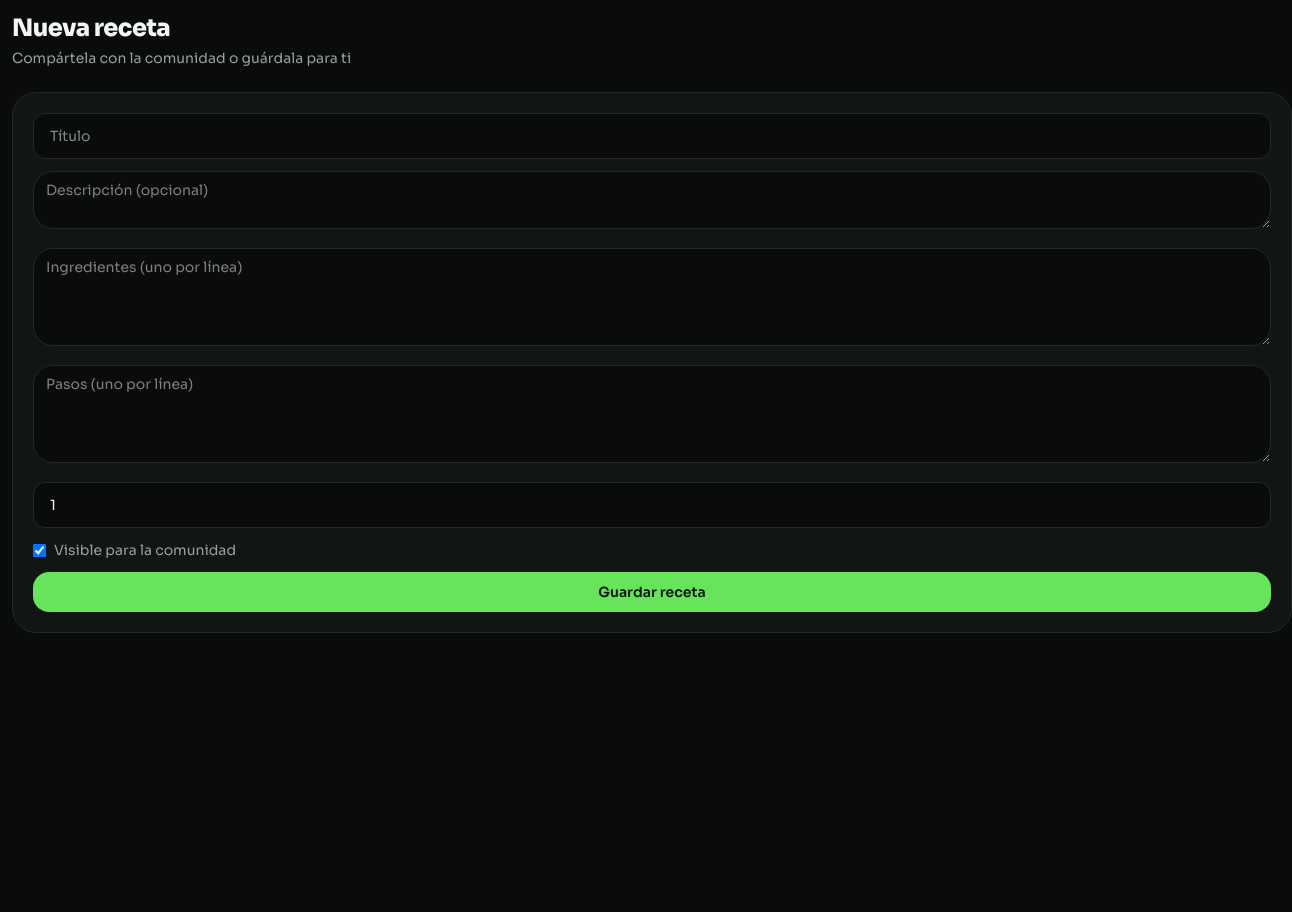
nueva receta › R2: refuses to submit without ingredients, mirroring the server rule
Type "Vacía" into the field with placeholder "Título".
click(652, 136); type("Vacía")  # box left=33, top=113, right=1271, bottom=159
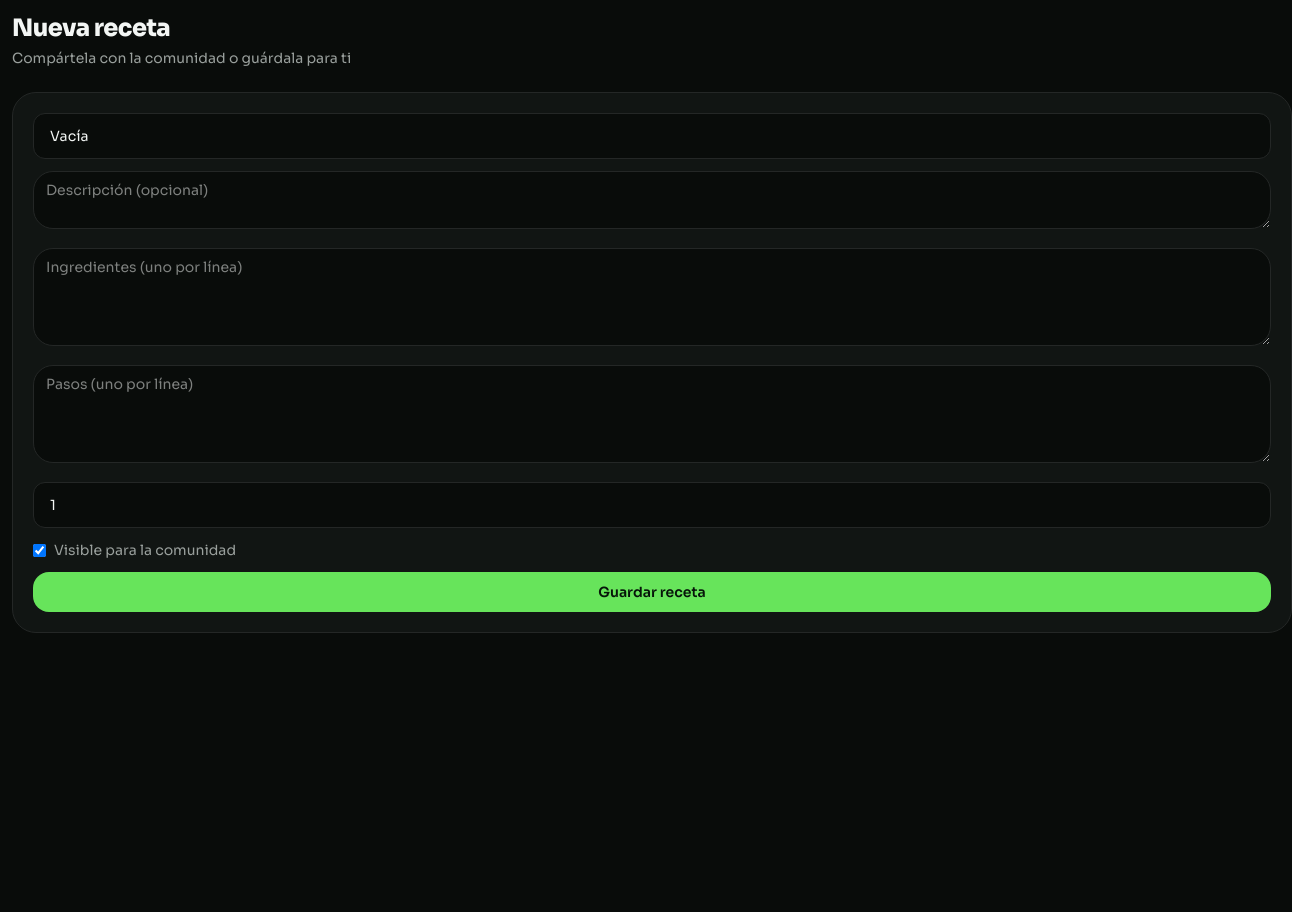
Click the button "Guardar receta".
click(652, 592)  # box left=33, top=572, right=1271, bottom=612
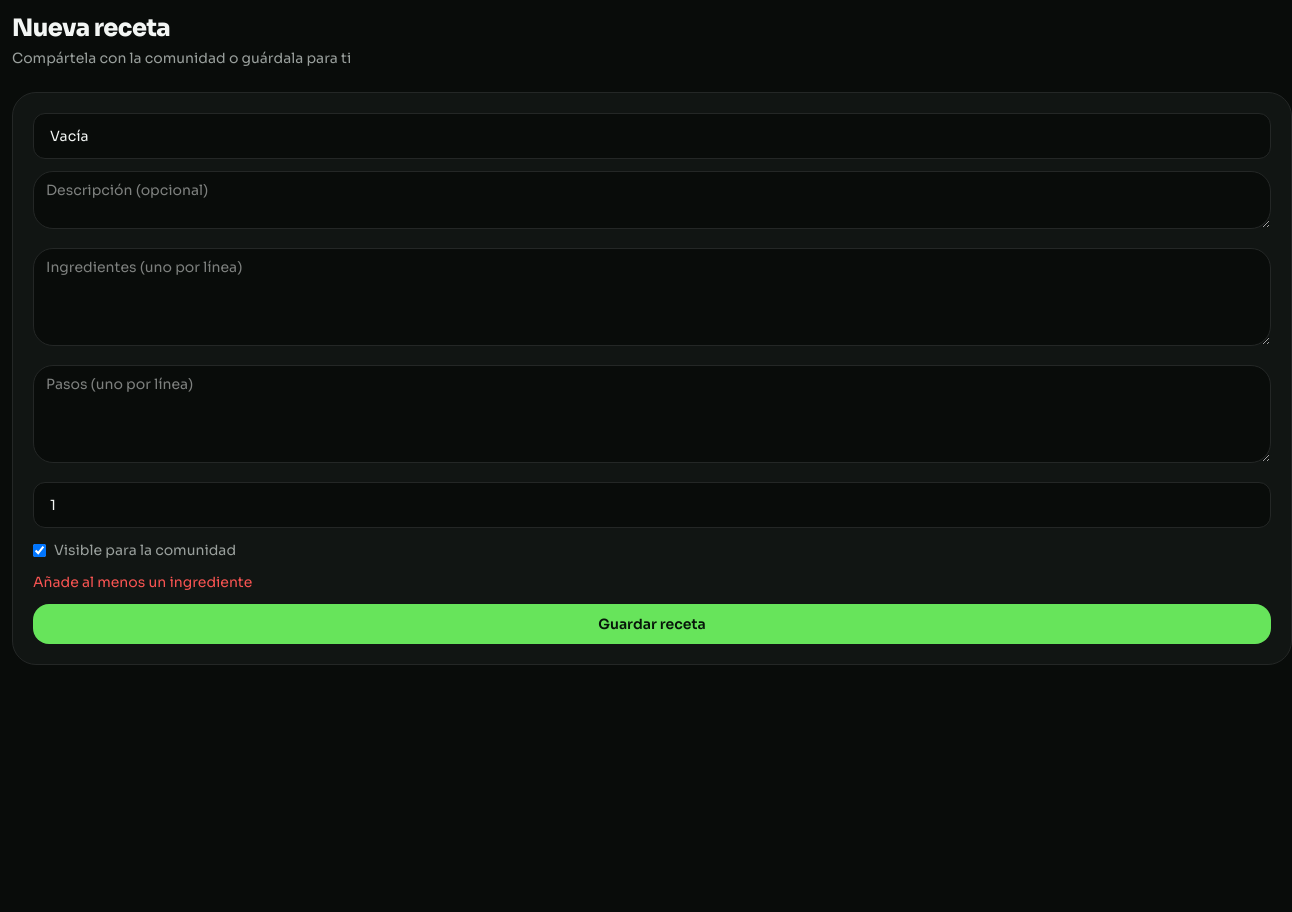
expect the text "Añade al menos un ingrediente" is shown: met, box left=33, top=573, right=252, bottom=591
